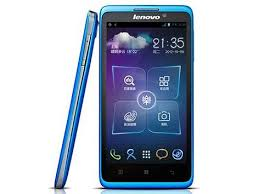lenovo: (97, 1, 197, 190)
